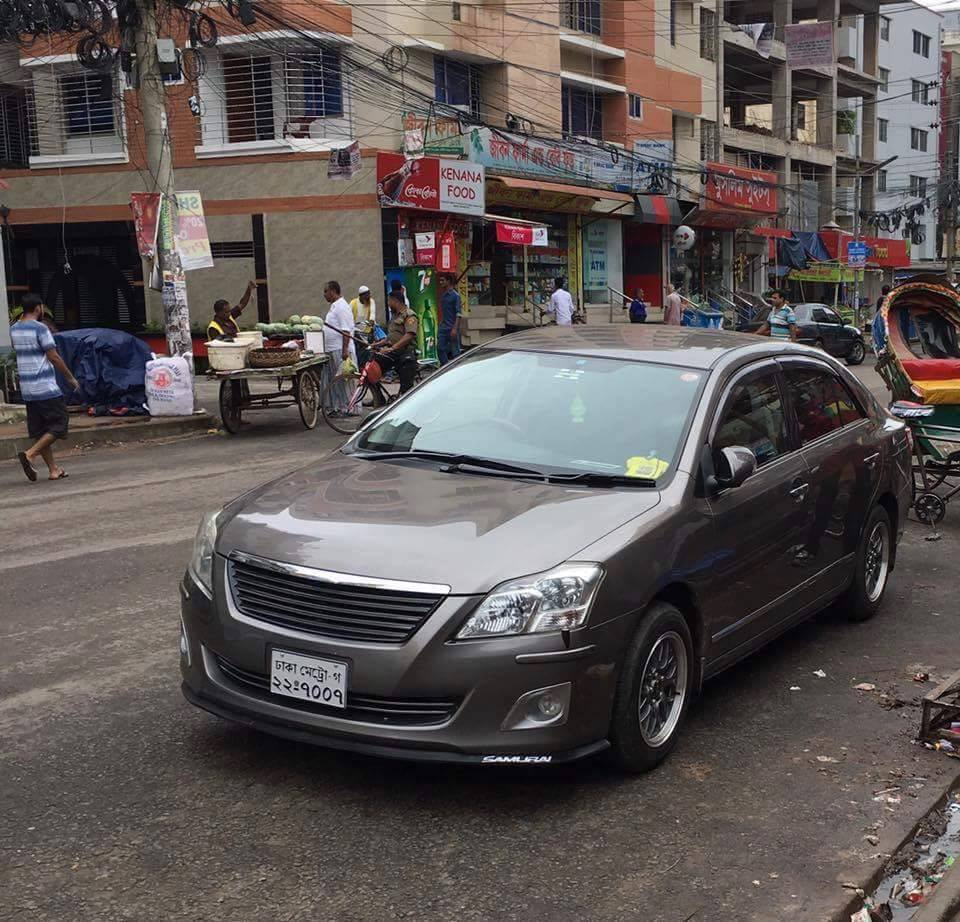registration_plate: (269, 647, 348, 711)
